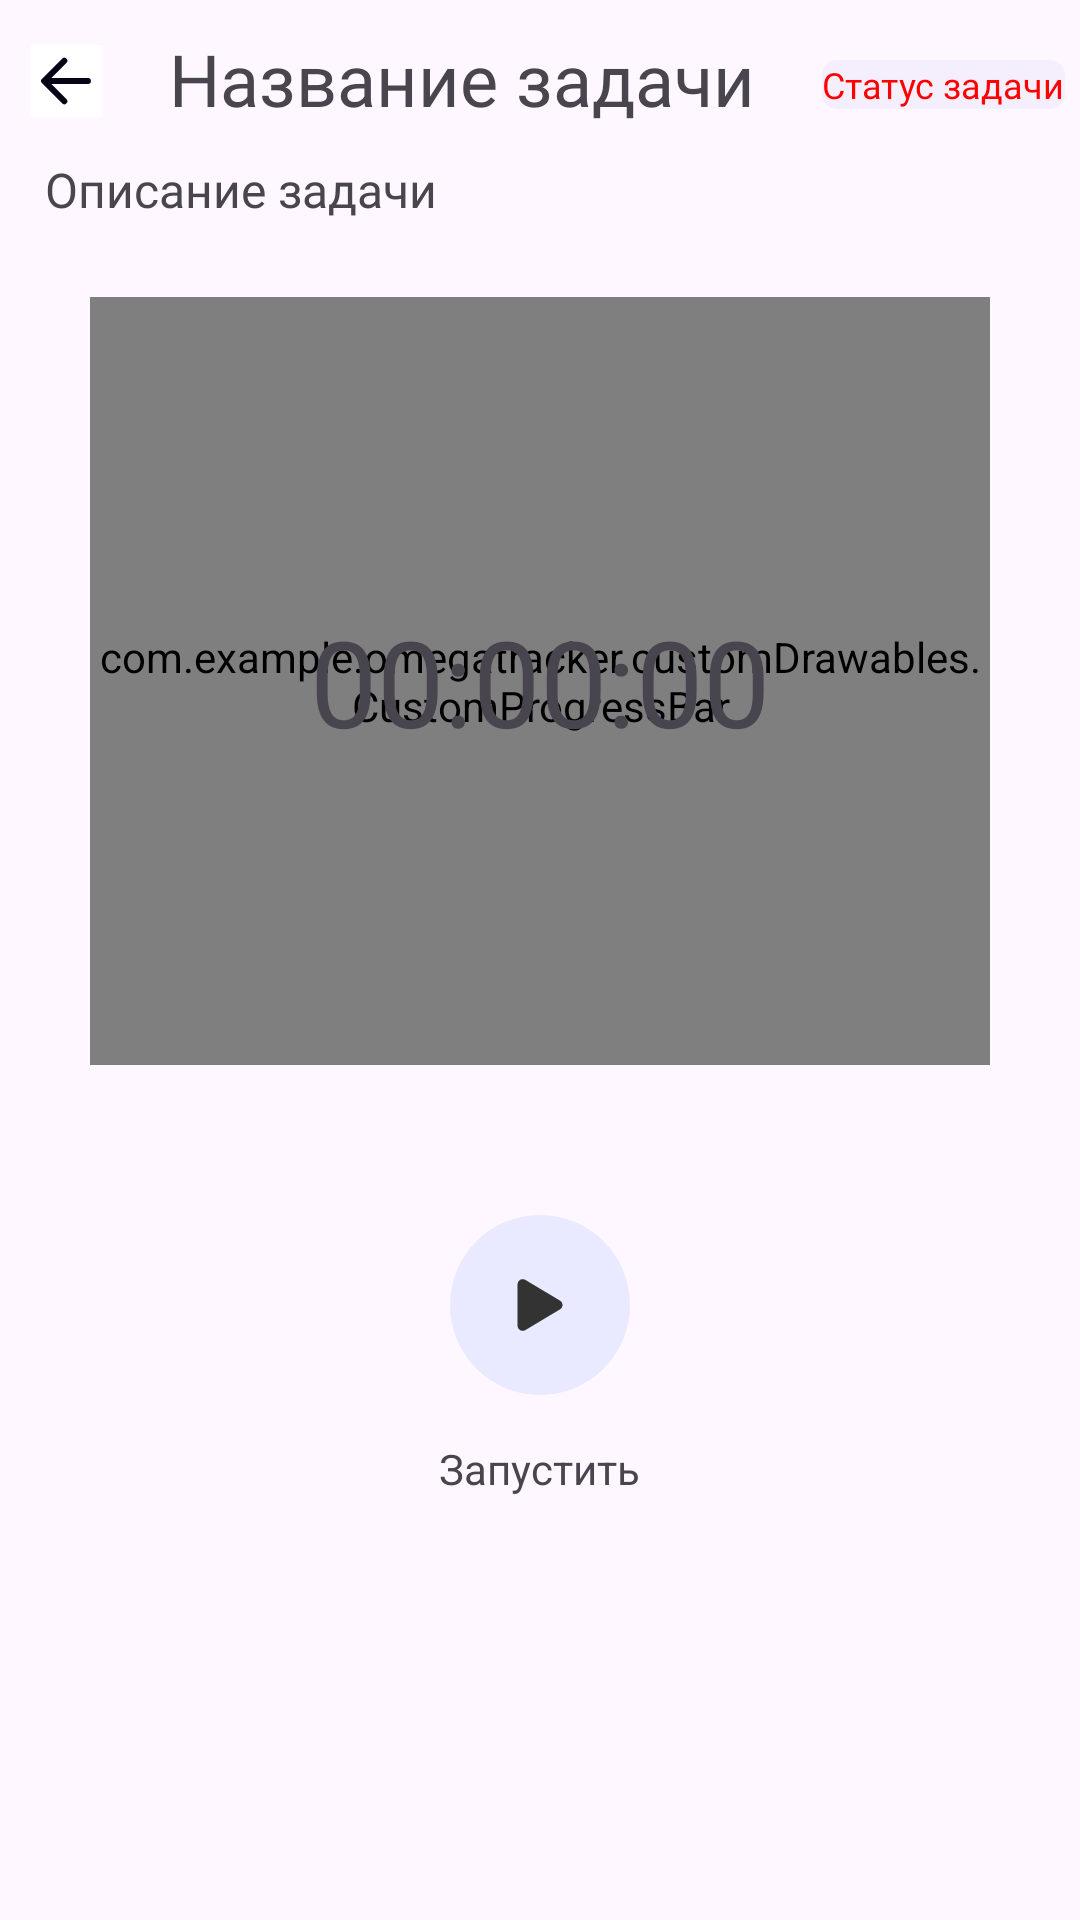

Screen size 1080 x 1920. Icon name, then its box in pixels as (x1, y1, x2, y2):
arrow back: (41, 57, 91, 105)
play: (517, 1279, 563, 1331)
